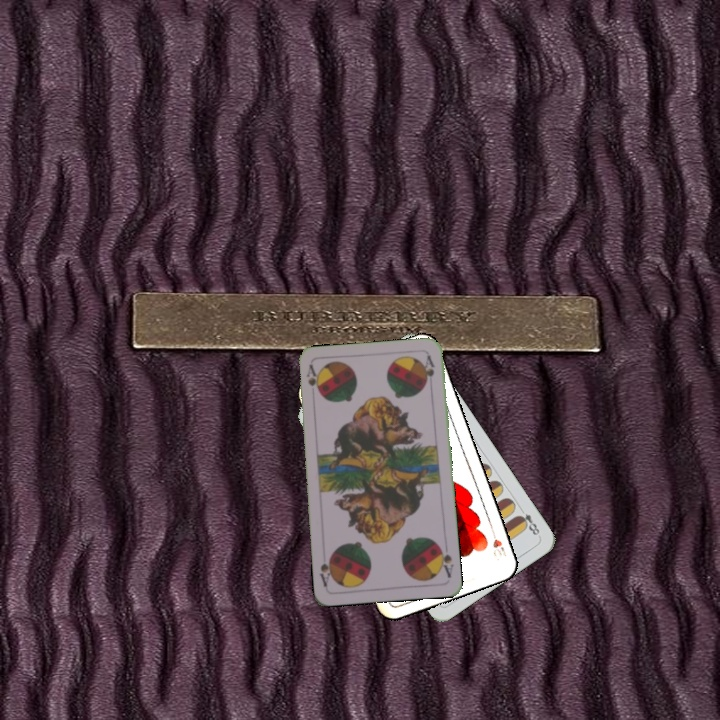E8: (514, 503, 542, 538)
H10: (487, 524, 509, 561)
SA: (434, 540, 456, 580), (302, 361, 321, 395)
